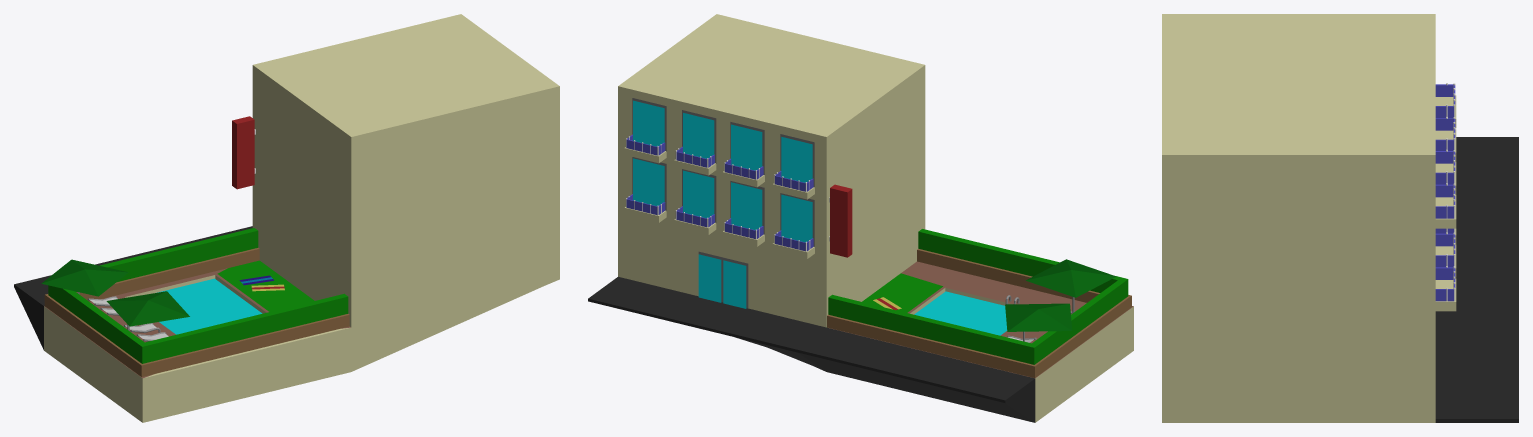
The model's file is hotel.fbx.
3 renders of one model, left to right at view 1: azimuth 30°, elevation 25°; view 2: azimuth 150°, elevation 25°; view 3: azimuth 270°, elevation 25°, orthographic. The views are drawn at different scales.
Parts seen in each view (by area): view 1: Cube, Cube.018, Cube.019, Cube.001, Plane.010, Cube.004, Cube.016, Plane.004, Plane.005, Cube.021, Cube.014, Cube.017; view 2: Cube, Cube.021, Cube.030, Cube.018, Cube.001, Cube.017, Cube.019, Plane.010, Cube.031, Cube.015, Cube.004, Plane.005 (+3 smaller); view 3: Cube, Cube.021, Cube.009, Cube.010, Cube.022, Cube.029, Cube.028, Cube.007, Cube.026, Cube.013.
Boxes of the visible parts, left/top/right/bottom form: Cube: left=44, top=14, right=559, bottom=422; Cube.018: left=48, top=228, right=258, bottom=360; Cube.019: left=138, top=293, right=348, bottom=363; Cube.001: left=44, top=248, right=259, bottom=371; Plane.010: left=156, top=278, right=262, bottom=334; Cube.004: left=135, top=314, right=349, bottom=376; Cube.016: left=217, top=260, right=314, bottom=311; Plane.004: left=106, top=291, right=189, bottom=326; Plane.005: left=41, top=259, right=128, bottom=296; Cube.021: left=14, top=226, right=252, bottom=349; Cube.014: left=232, top=116, right=254, bottom=189; Cube.017: left=44, top=268, right=350, bottom=378; Cube: left=618, top=14, right=1133, bottom=422; Cube.021: left=588, top=276, right=1035, bottom=422; Cube.030: left=633, top=100, right=812, bottom=242; Cube.018: left=828, top=280, right=1124, bottom=364; Cube.001: left=827, top=300, right=1124, bottom=377; Cube.017: left=828, top=261, right=1133, bottom=378; Cube.019: left=918, top=229, right=1128, bottom=298; Plane.010: left=914, top=291, right=1007, bottom=335; Cube.031: left=698, top=254, right=746, bottom=308; Cube.015: left=632, top=98, right=814, bottom=246; Cube.004: left=917, top=249, right=1131, bottom=311; Plane.005: left=1005, top=303, right=1072, bottom=331; Cube: left=1162, top=14, right=1435, bottom=422; Cube.021: left=1435, top=137, right=1518, bottom=422; Cube.009: left=1435, top=184, right=1455, bottom=218; Cube.010: left=1435, top=233, right=1455, bottom=267; Cube.022: left=1435, top=267, right=1455, bottom=301; Cube.029: left=1435, top=151, right=1455, bottom=184; Cube.028: left=1435, top=84, right=1455, bottom=118; Cube.007: left=1435, top=118, right=1455, bottom=150; Cube.026: left=1435, top=195, right=1456, bottom=228; Cube.013: left=1435, top=278, right=1456, bottom=311.
Size of the model in its own units: 419 by 215 by 214.
